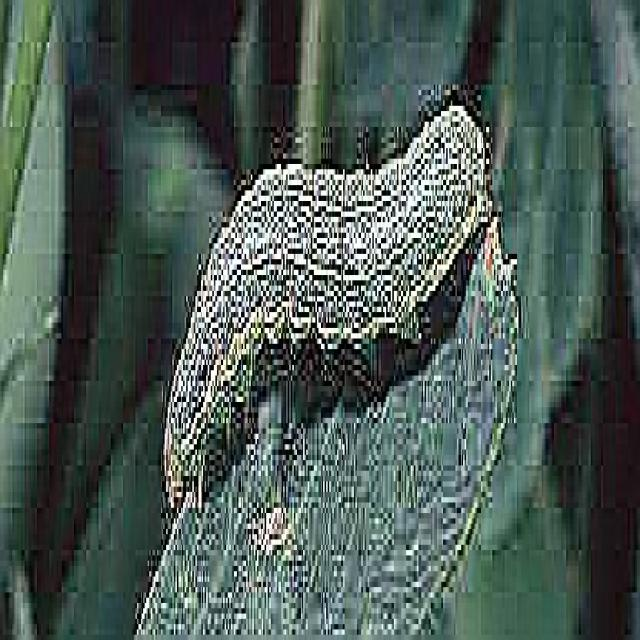Armyworm: (149, 75, 493, 486)
